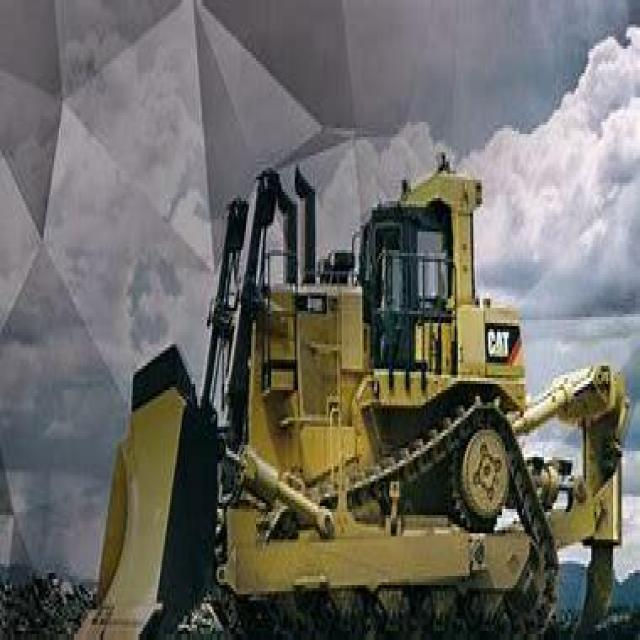Bulldozer: (69, 128, 630, 637)
